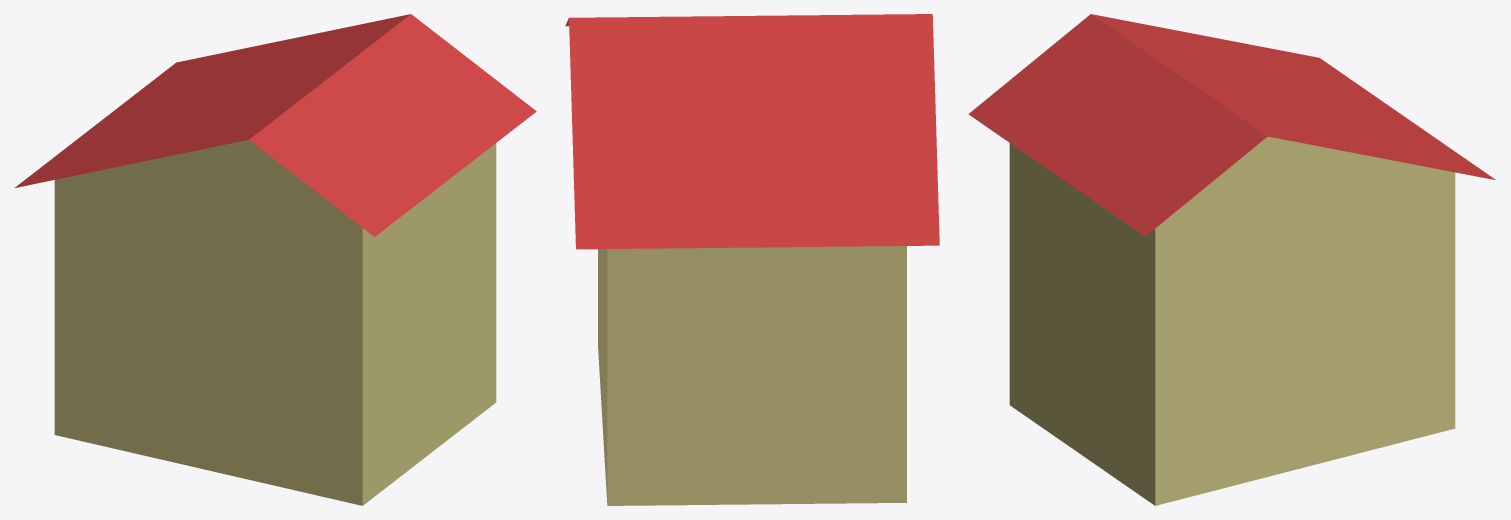
The picture shows the model from 3 angles, left to right: view 1: azimuth 30°, elevation 25°; view 2: azimuth 150°, elevation 25°; view 3: azimuth 270°, elevation 25°; orthographic projection. The views are drawn at different scales.
Bounding box in the file's own units: 8.42 × 8.82 × 6.55.
